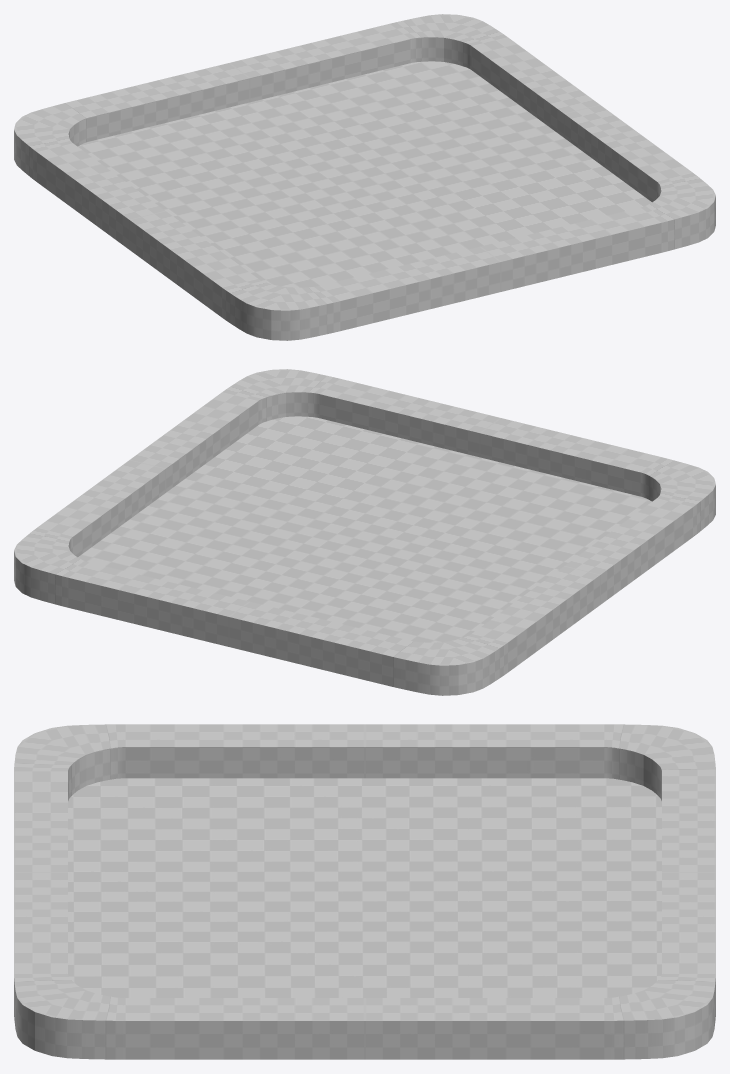
File: TestArena.fbx
3 renders of one model, top to bottom at view 1: azimuth 30°, elevation 25°; view 2: azimuth 150°, elevation 25°; view 3: azimuth 270°, elevation 25°, orthographic. The views are drawn at different scales.
Parts seen in each view (by area): view 1: polySurface5, polySurface10; view 2: polySurface5, polySurface10; view 3: polySurface5, polySurface10.
Boxes of the visible parts, x1,y1,x2,y2 form: polySurface5: [78, 61, 651, 287]; polySurface10: [14, 14, 715, 340]; polySurface5: [78, 416, 651, 642]; polySurface10: [14, 369, 715, 695]; polySurface5: [68, 778, 661, 997]; polySurface10: [14, 724, 715, 1059].
Bounding box in the file's own units: 26 × 2.12 × 26.
